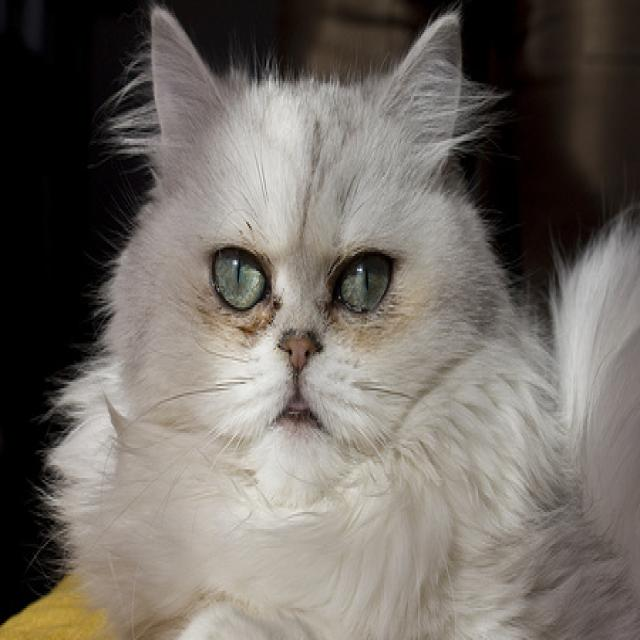Persian: (38, 0, 640, 640)
